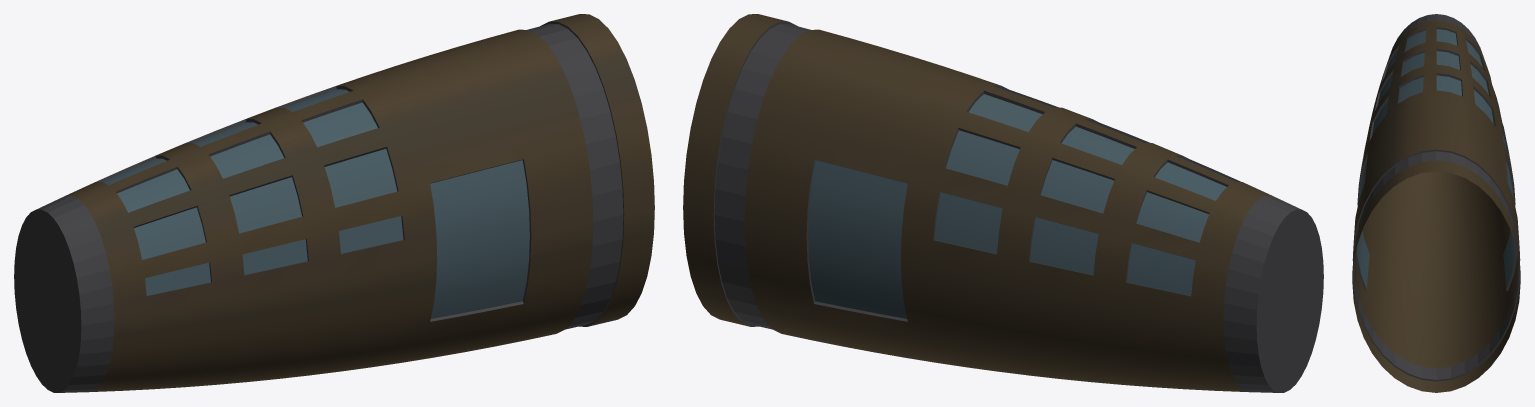
The model's file is fh_tail_bomber_1.glb.
The picture shows the model from 3 angles, left to right: view 1: azimuth 30°, elevation 25°; view 2: azimuth 150°, elevation 25°; view 3: azimuth 270°, elevation 25°; orthographic projection. The views are drawn at different scales.
Parts seen in each view (by area): view 1: tail_cabin; view 2: tail_cabin; view 3: tail_cabin.
Boxes of the visible parts, left/top/right/bottom form: tail_cabin: left=14, top=14, right=654, bottom=392; tail_cabin: left=683, top=14, right=1323, bottom=392; tail_cabin: left=1352, top=14, right=1520, bottom=392.
Bounding box in the file's own units: 0.088 × 0.0451 × 0.031.
